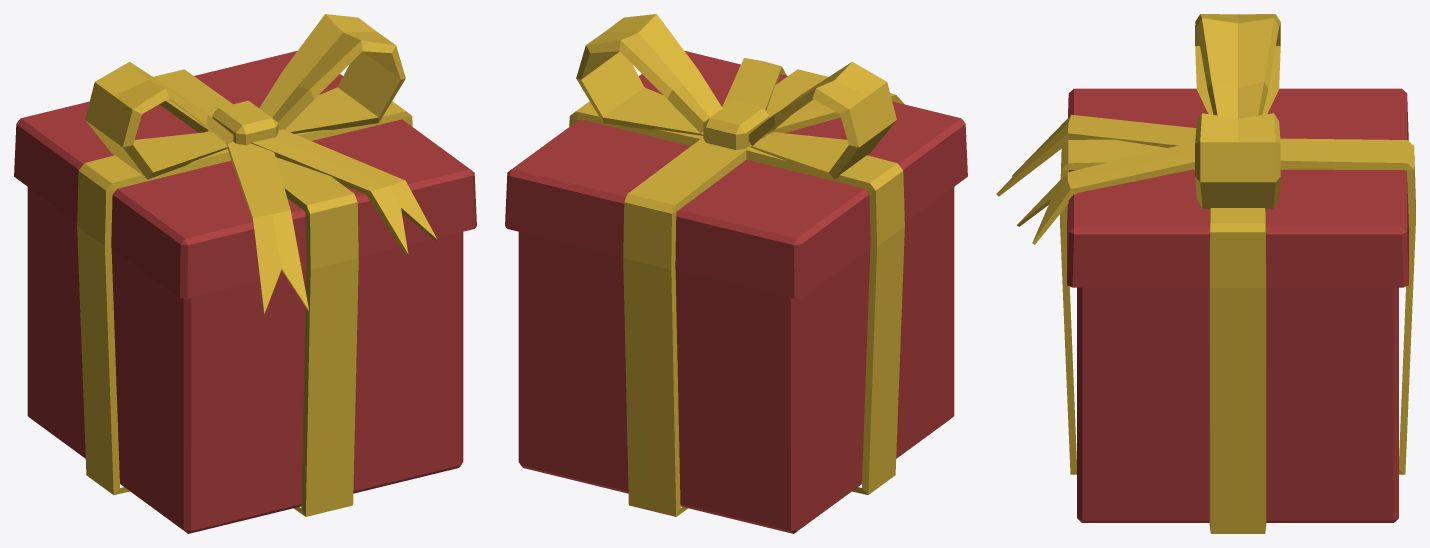
File: gift-christmas-cube-a.glb
3 renders of one model, left to right at view 1: azimuth 30°, elevation 25°; view 2: azimuth 150°, elevation 25°; view 3: azimuth 270°, elevation 25°, orthographic.
Parts seen in each view (by area): view 1: gift_christmas_cube_a; view 2: gift_christmas_cube_a; view 3: gift_christmas_cube_a.
Part boxes in pixels (box(x1,y1,x2,y2)): gift_christmas_cube_a: box(14, 14, 476, 533); gift_christmas_cube_a: box(505, 14, 967, 533); gift_christmas_cube_a: box(996, 14, 1415, 533).
Size of the model in its own units: 0.3317 by 0.4116 by 0.3912.
Materials: 1 (1 with a texture image).
